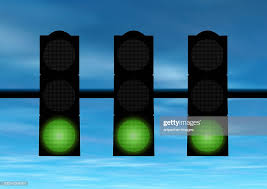green: (34, 31, 84, 161), (43, 38, 77, 155)
